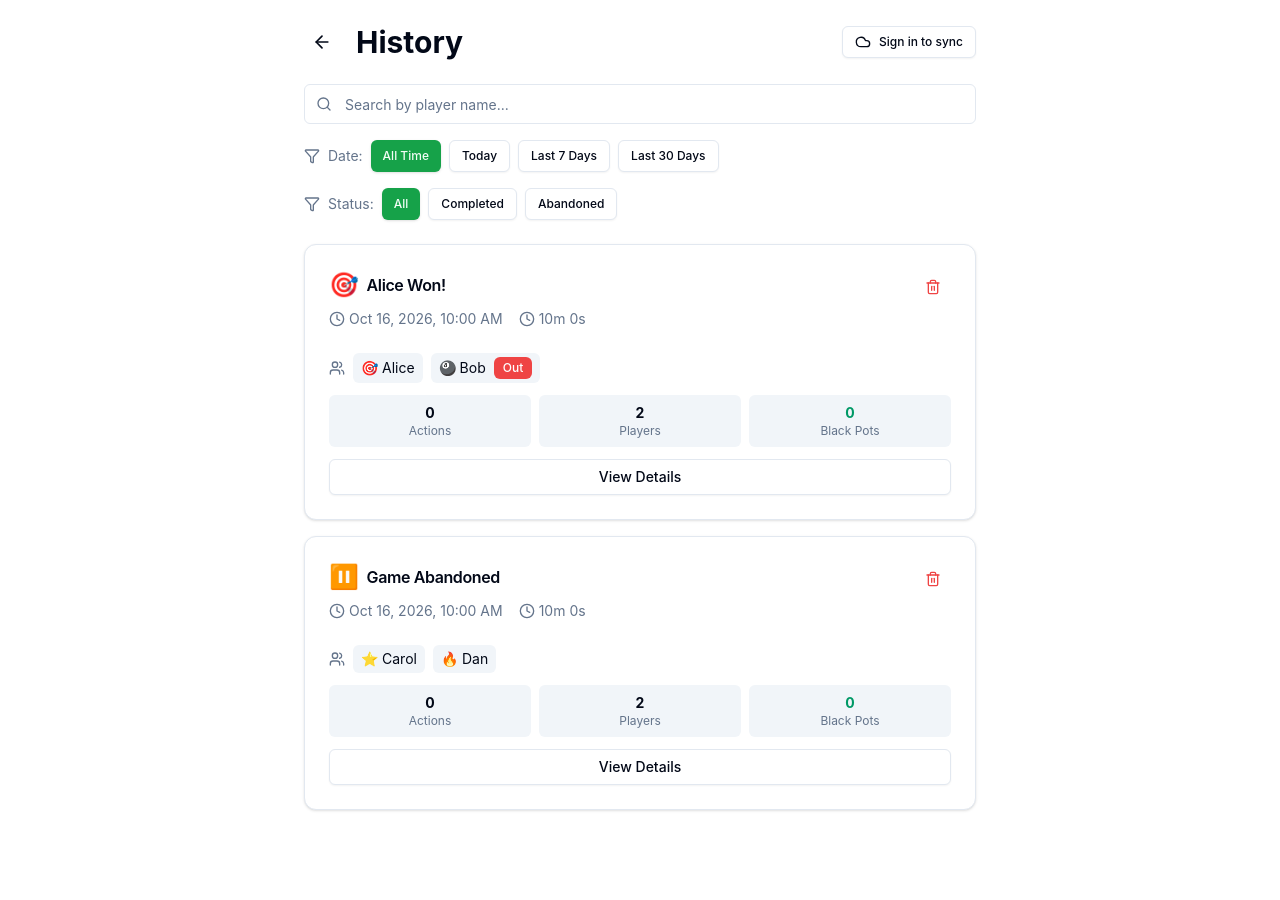
Test: HistoryPage › should keep the game when the user changes their mind
The width and height of the screenshot is (1280, 900).
Click the button named "delete game from" in the row of "Won!". click: (933, 287)
box: [915,269,951,305]
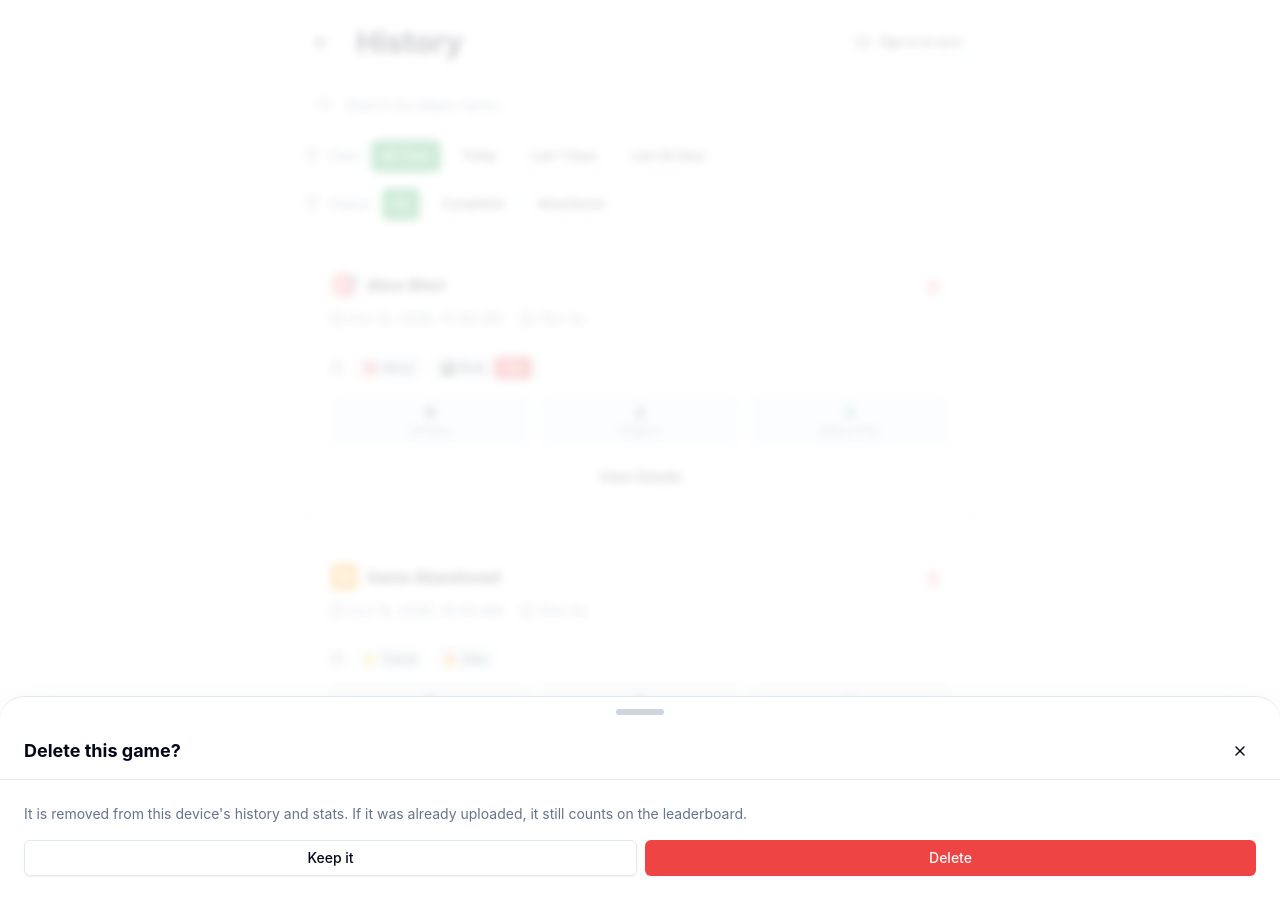
Click the button "Keep it". click: (330, 858)
box: [24,840,637,876]
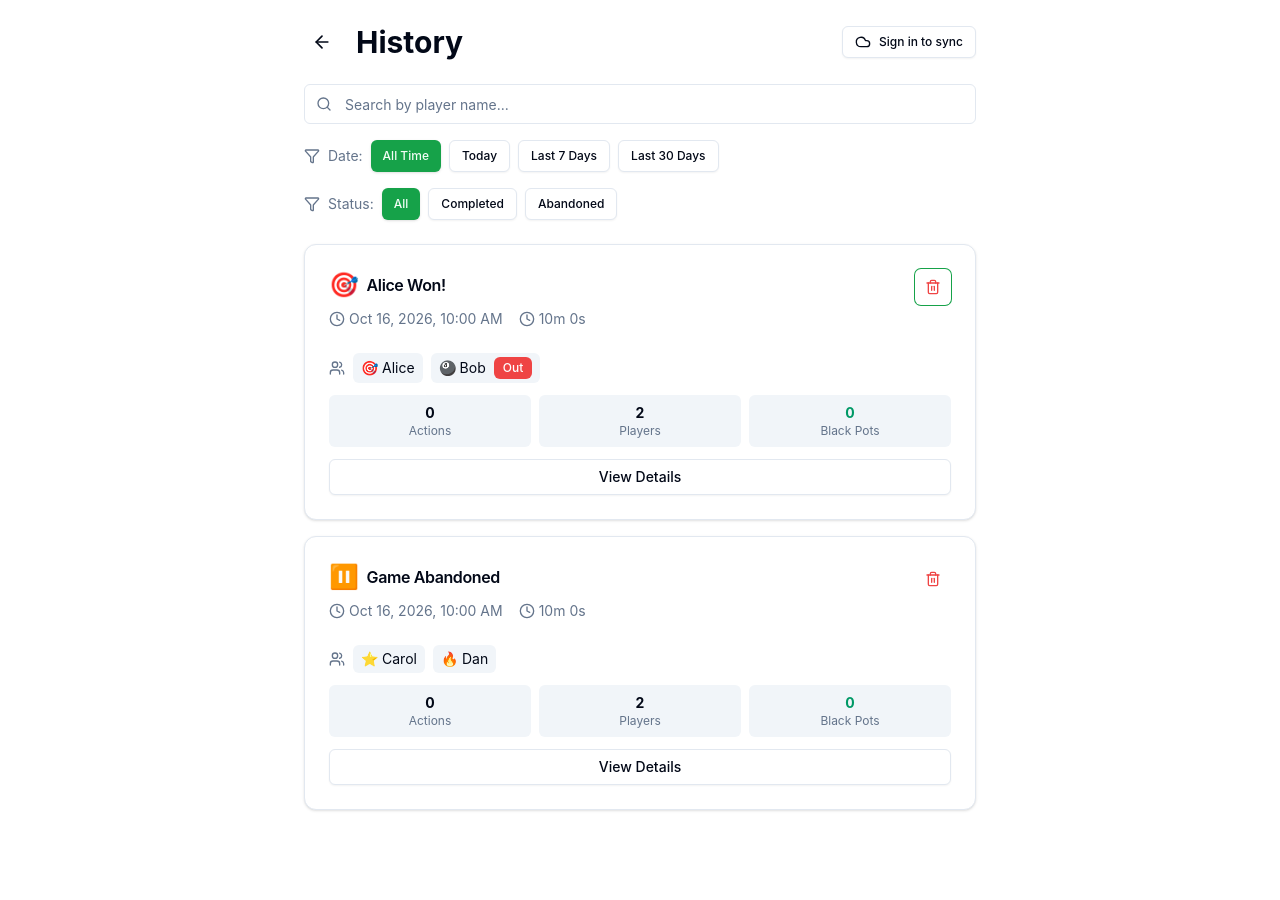
expect the number of buttons named "delete game from" is 2: met, box [915,269,951,305]; [915,561,951,597]
